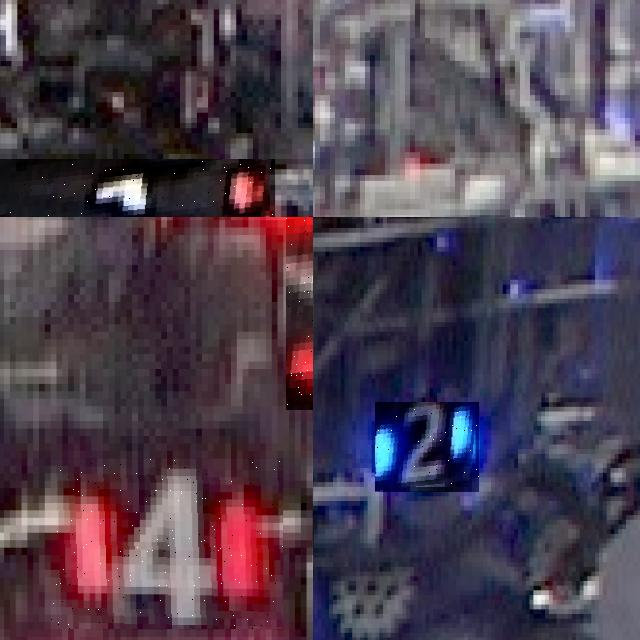B2: (376, 402, 480, 492)
R1: (0, 159, 275, 217)
R4: (51, 459, 283, 629)
